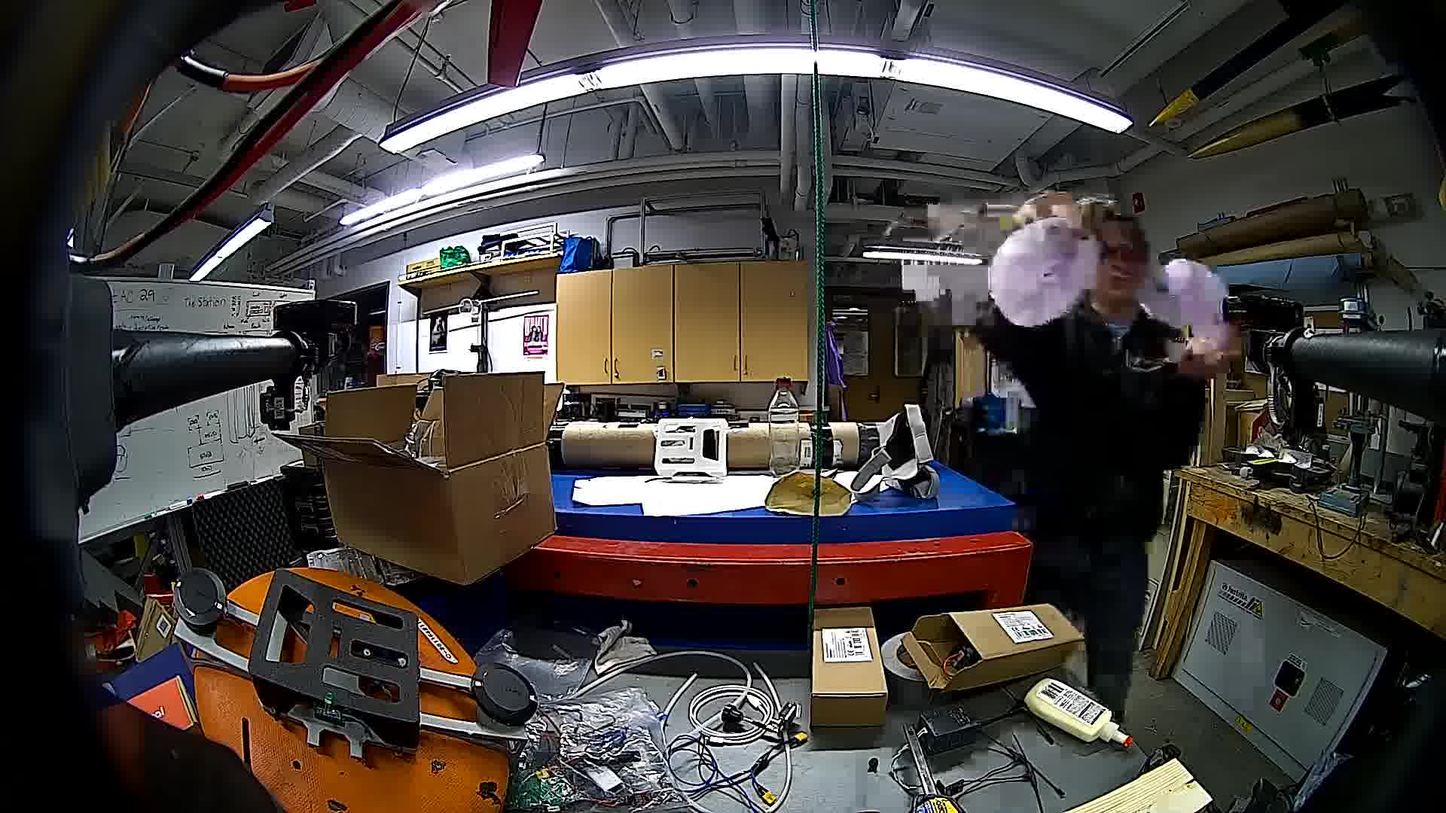Target: (986, 216, 1101, 331)
